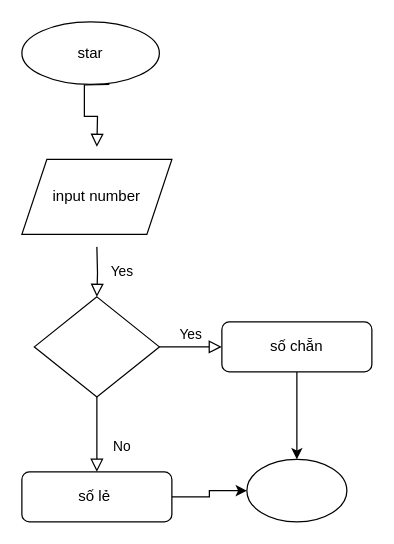
This 394x544 diagram has some shape labels left out. Here are the shapes that lost their labels. From the top down, the centre of each, then its label:
pixel 96 346: ì number%2==0
pixel 296 490: end
